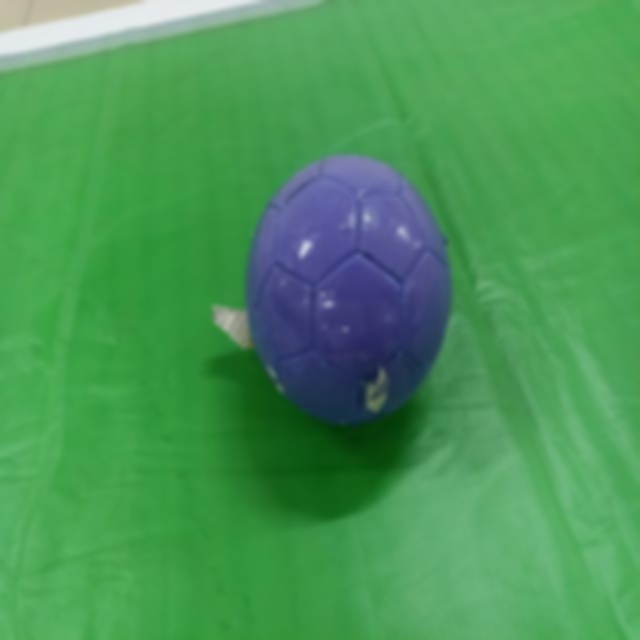purple_ball: (247, 156, 448, 424)
